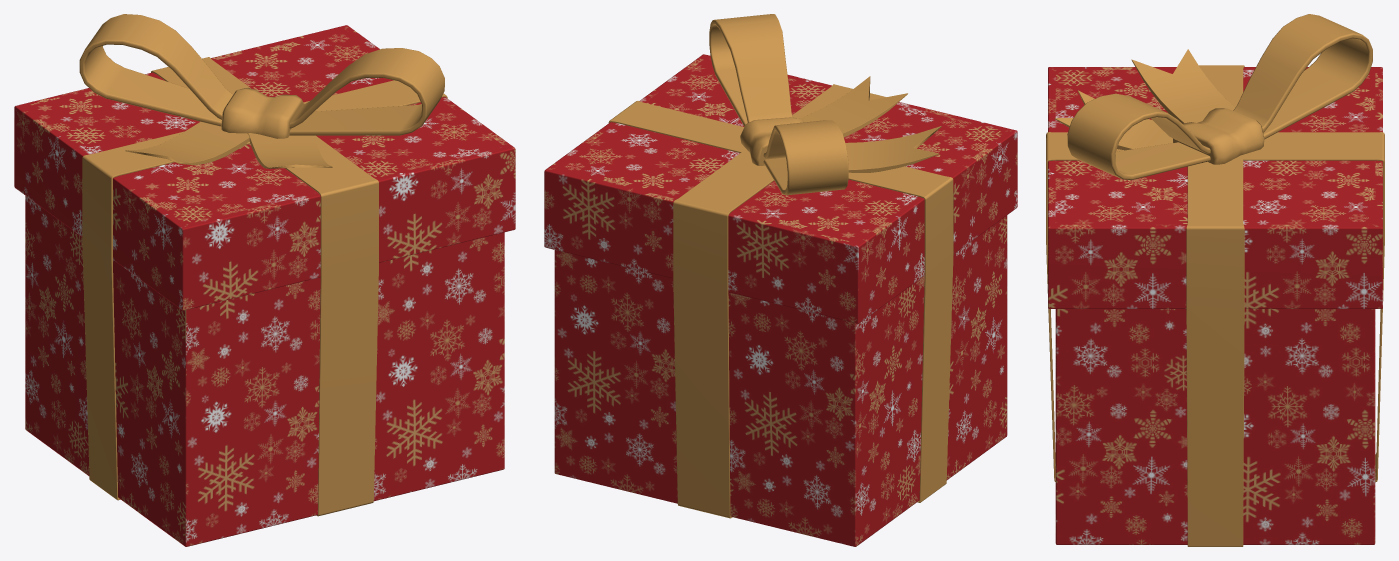
The model's file is Gift box.glb.
3 views of the same model, side by side, from view 1: azimuth 30°, elevation 25°; view 2: azimuth 150°, elevation 25°; view 3: azimuth 270°, elevation 25° (orthographic). The views are drawn at different scales.
Parts seen in each view (by area): view 1: Box; view 2: Box; view 3: Box.
Part boxes in pixels (bbox=[...]): Box: bbox=[14, 14, 515, 546]; Box: bbox=[544, 14, 1017, 546]; Box: bbox=[1046, 14, 1384, 546].
Size of the model in its own units: 0.1711 by 0.1971 by 0.1504.
Materials: 1 (1 with a texture image).
